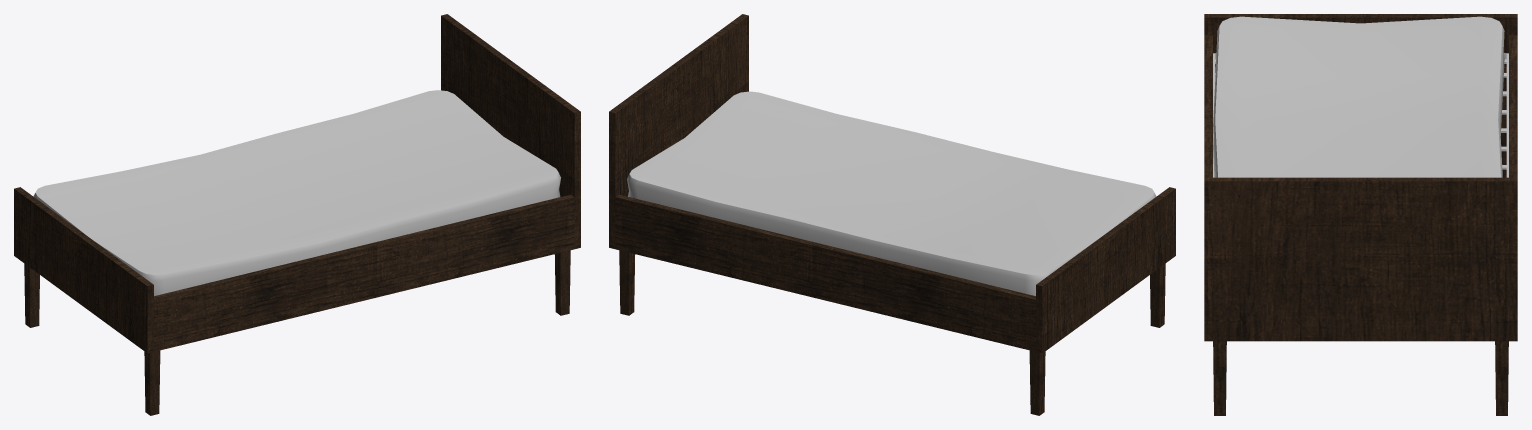
Rendered from bed_3_1.obj.
3 views of the same model, side by side, from view 1: azimuth 30°, elevation 25°; view 2: azimuth 150°, elevation 25°; view 3: azimuth 270°, elevation 25° (orthographic). The views are drawn at different scales.
Visible parts, largest first — view 1: bed_3_1; view 2: bed_3_1; view 3: bed_3_1.
Part boxes in pixels (x1,y1,x2,y2): bed_3_1: [14, 14, 580, 415]; bed_3_1: [609, 14, 1175, 415]; bed_3_1: [1204, 14, 1517, 415].
Size of the model in its own units: 2.7 by 1.21 by 1.44.
